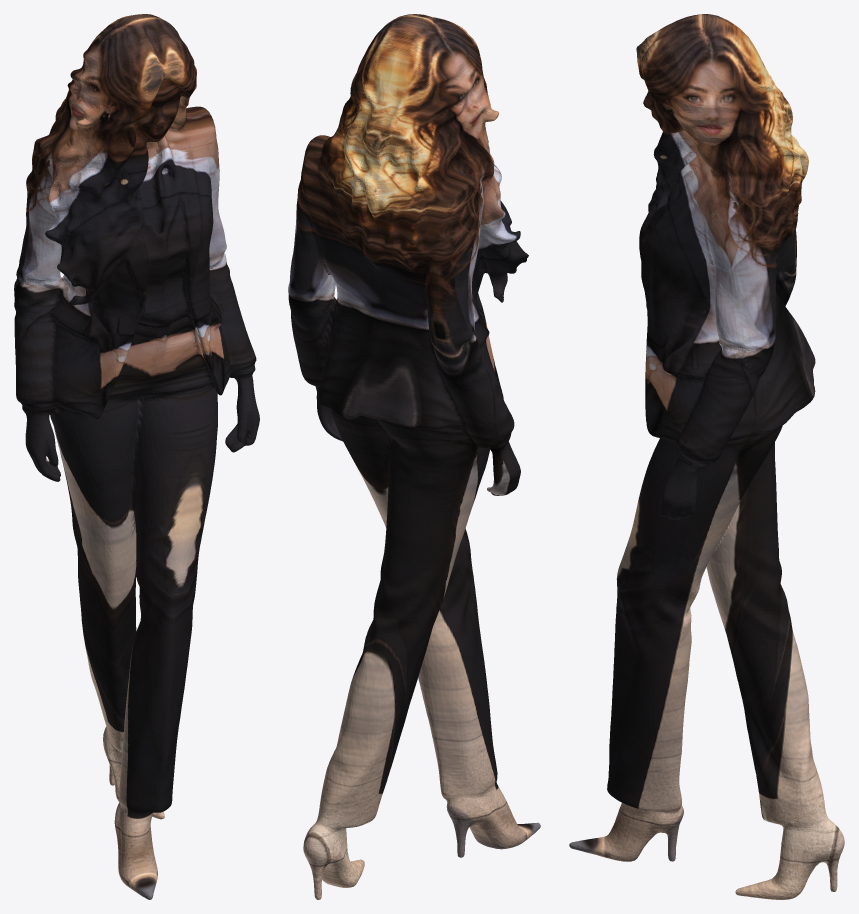
Rendered from alma_meshy_textured.glb.
3 renders of one model, left to right at view 1: azimuth 30°, elevation 25°; view 2: azimuth 150°, elevation 25°; view 3: azimuth 270°, elevation 25°, orthographic. The views are drawn at different scales.
Visible parts, largest first — view 1: mesh_node; view 2: mesh_node; view 3: mesh_node.
Boxes of the visible parts, bbox=[...] form: mesh_node: bbox=[14, 14, 259, 899]; mesh_node: bbox=[288, 14, 540, 899]; mesh_node: bbox=[569, 14, 844, 899].
Size of the model in its own units: 0.5263 by 1.9 by 0.5523.
1 material, 1 textured.
